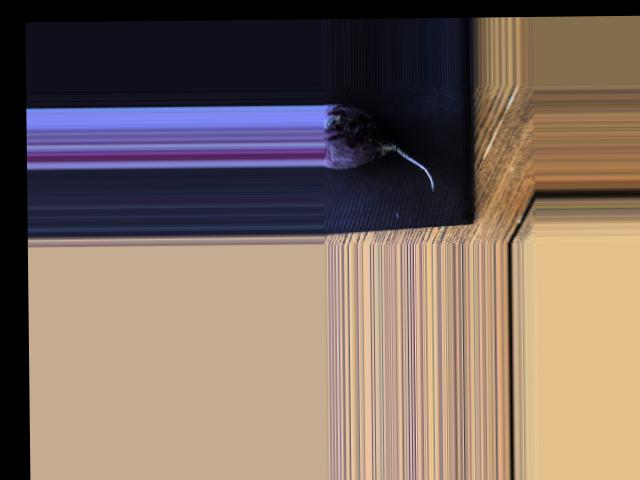beet: (323, 102, 434, 191)
